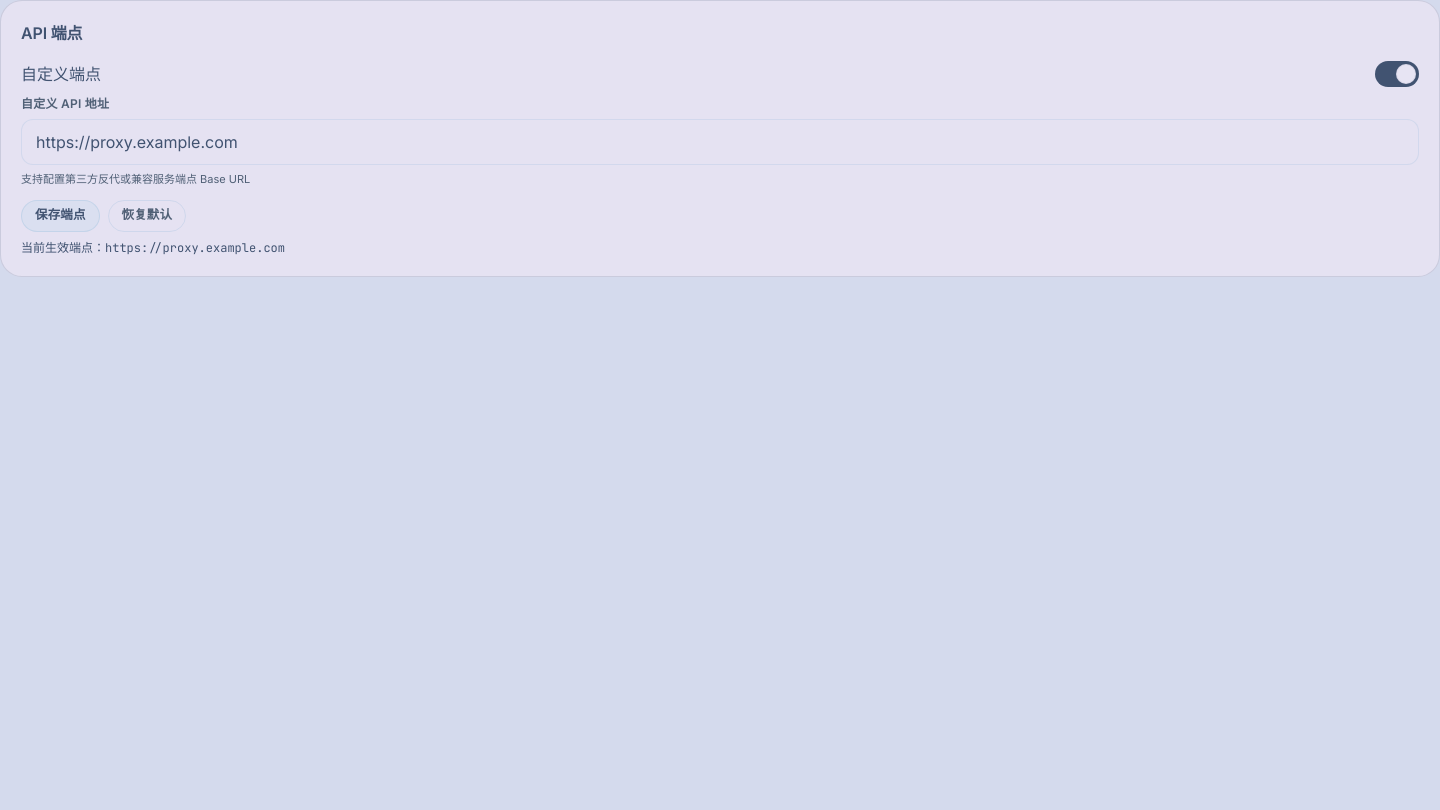
Test: ApiEndpointSettings › 关闭自定义开关后，立即回退为官方默认端点
Click the switch named "自定义端点" at [1397, 74], box [1375,61,1419,87]
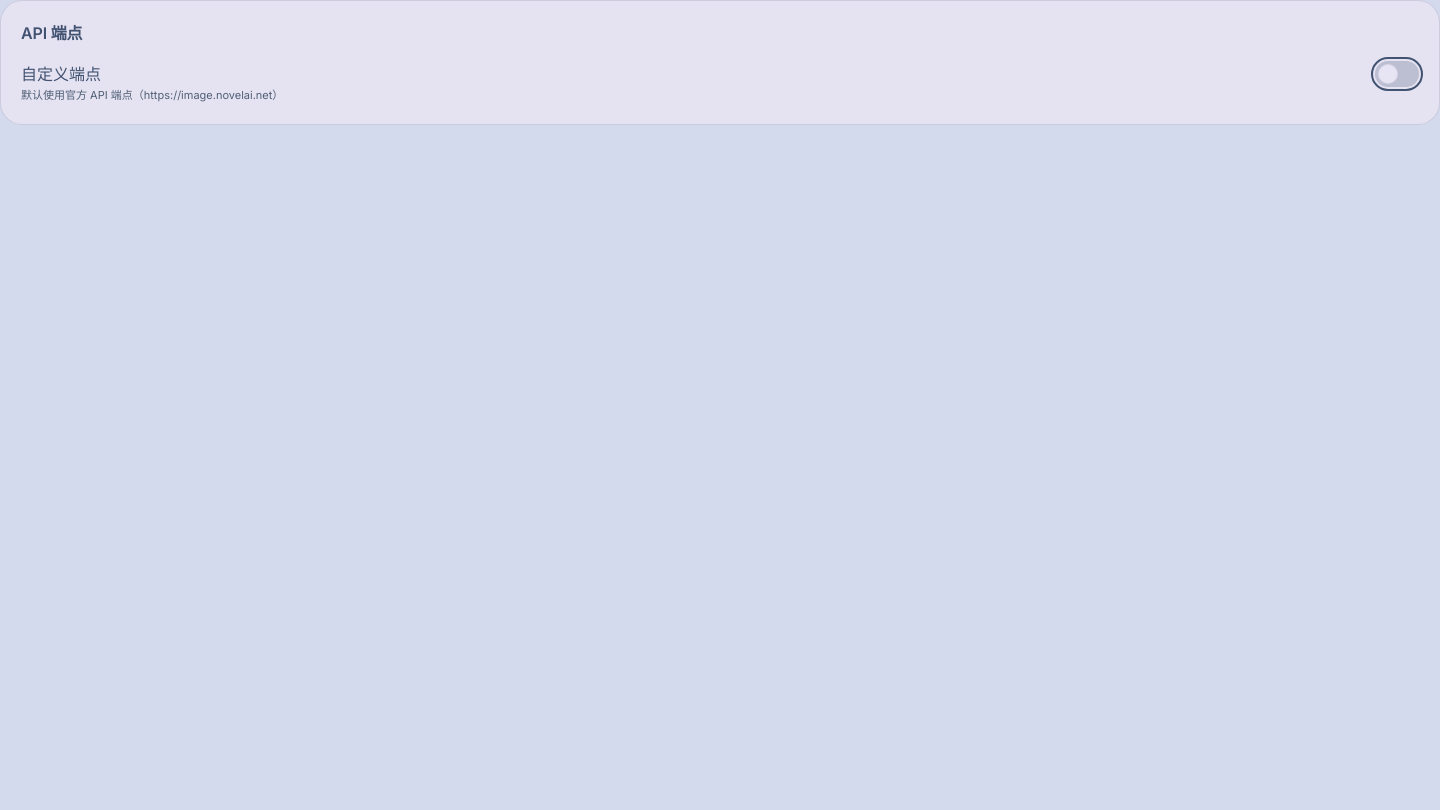
Result: the switch named "自定义端点" is not checked at [1375,61,1419,87]
Result: the text "默认使用官方 API 端点（https://image.novelai.net）" is shown at [21,88,283,102]
Result: the label "自定义 API 地址" is gone
